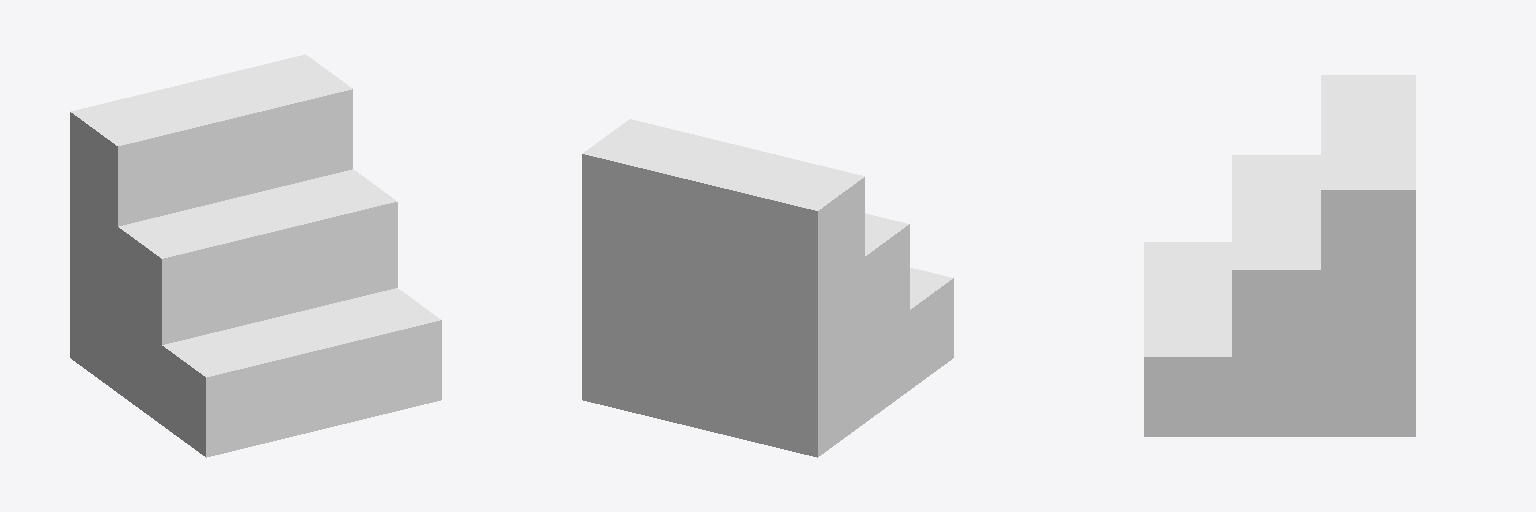
File: upstair.obj
The picture shows the model from 3 angles: view 1: azimuth 30°, elevation 25°; view 2: azimuth 150°, elevation 25°; view 3: azimuth 270°, elevation 25°; orthographic projection.
Visible parts, largest first — view 1: object 1; view 2: object 1; view 3: object 1.
Part boxes in pixels (x1,y1,x2,y2): object 1: (70, 54, 441, 457); object 1: (582, 119, 953, 457); object 1: (1144, 75, 1415, 436).
Size of the model in its own units: 4 by 4 by 4.